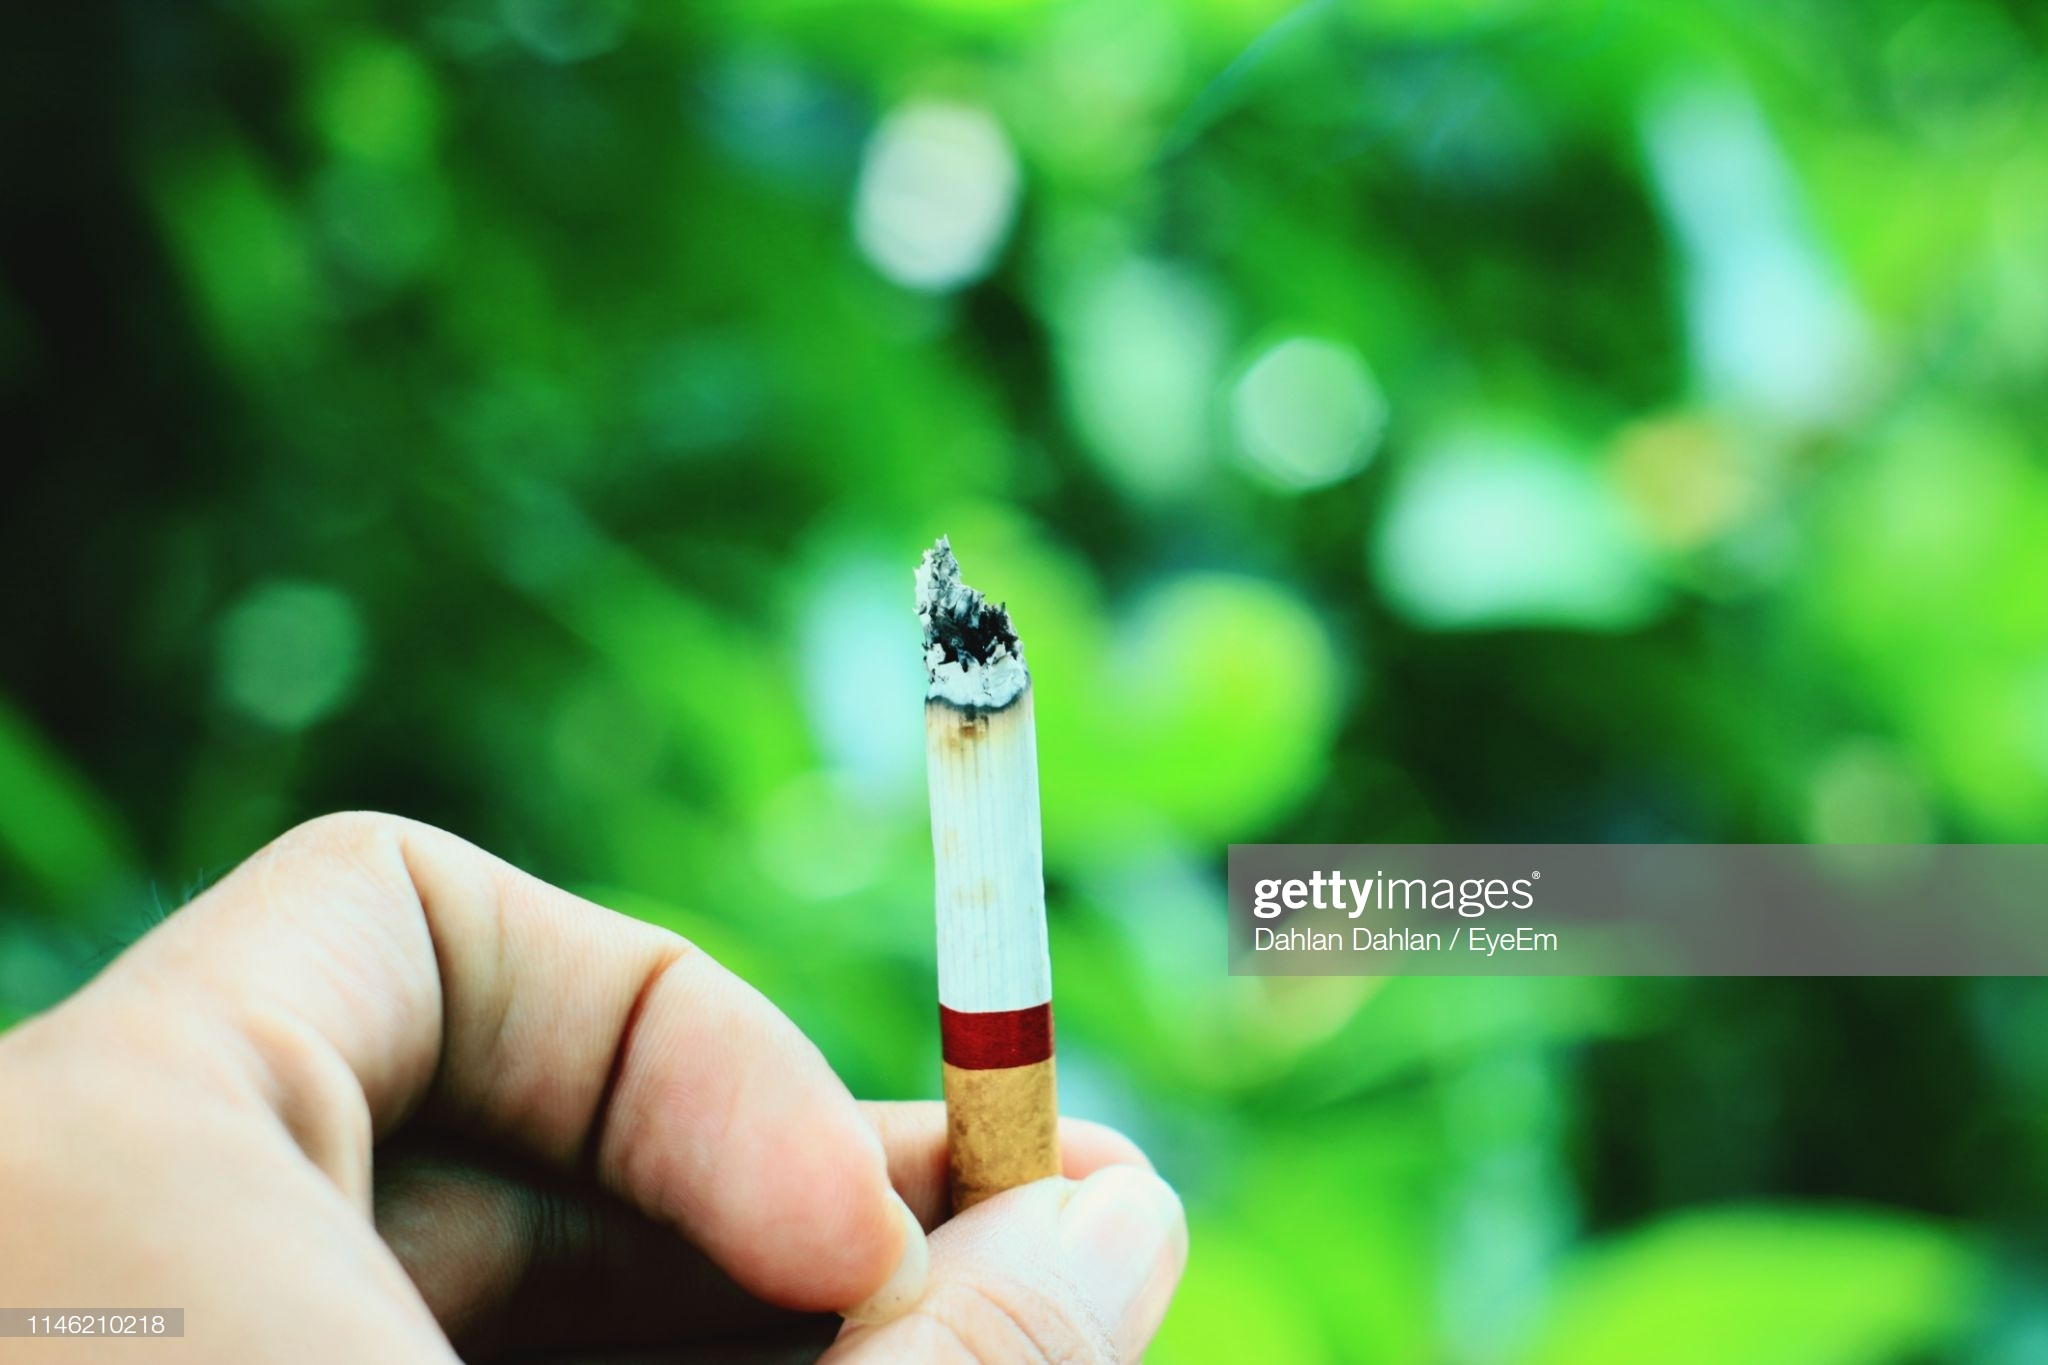sigaretta: (927, 611, 1049, 1188)
